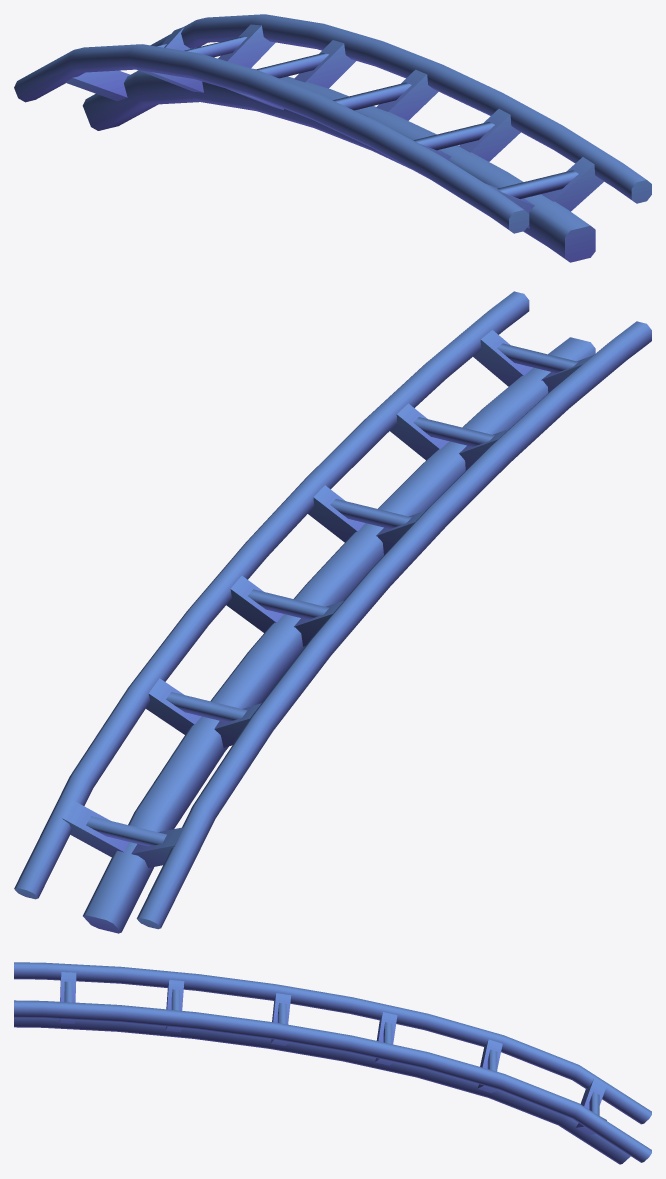
Rendered from coaster-steel-straight-hill-end.glb.
3 renders of one model, top to bottom at view 1: azimuth 30°, elevation 25°; view 2: azimuth 150°, elevation 25°; view 3: azimuth 270°, elevation 25°, orthographic. The views are drawn at different scales.
Visible parts, largest first — view 1: coaster-steel-straight-hill-end; view 2: coaster-steel-straight-hill-end; view 3: coaster-steel-straight-hill-end.
Boxes of the visible parts, <box> form: coaster-steel-straight-hill-end: <box>14,14,651,262</box>; coaster-steel-straight-hill-end: <box>14,291,651,933</box>; coaster-steel-straight-hill-end: <box>14,962,651,1164</box>.
Bounding box in the file's own units: 0.6998 × 1.3 × 4.21.
Materials: 1 (1 with a texture image).
